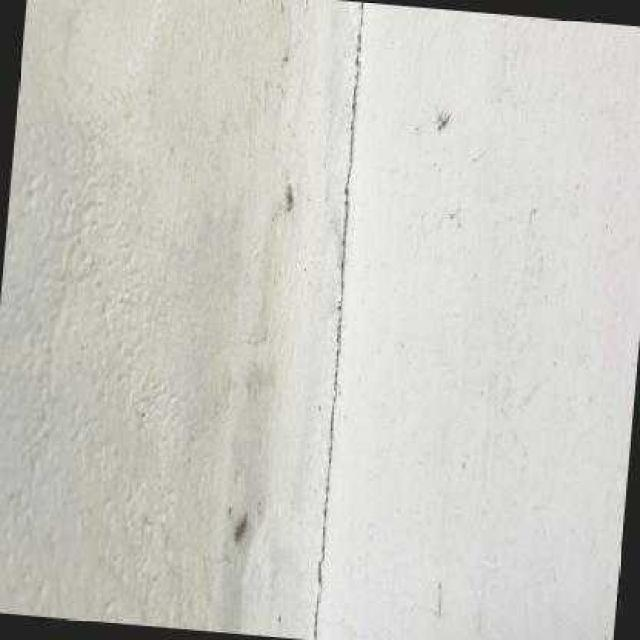D00: (314, 2, 364, 640)
